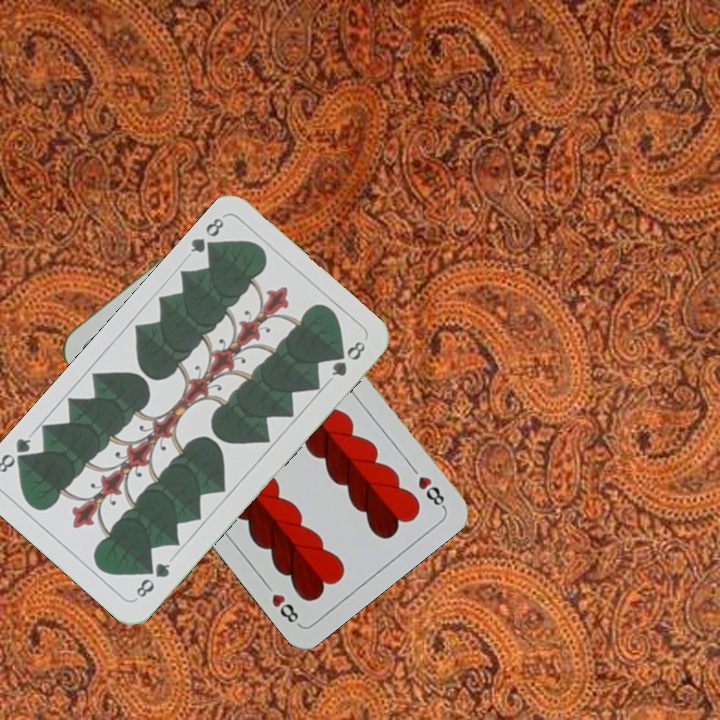G8: (186, 212, 227, 259), (131, 558, 173, 602)
H8: (414, 472, 448, 511)
